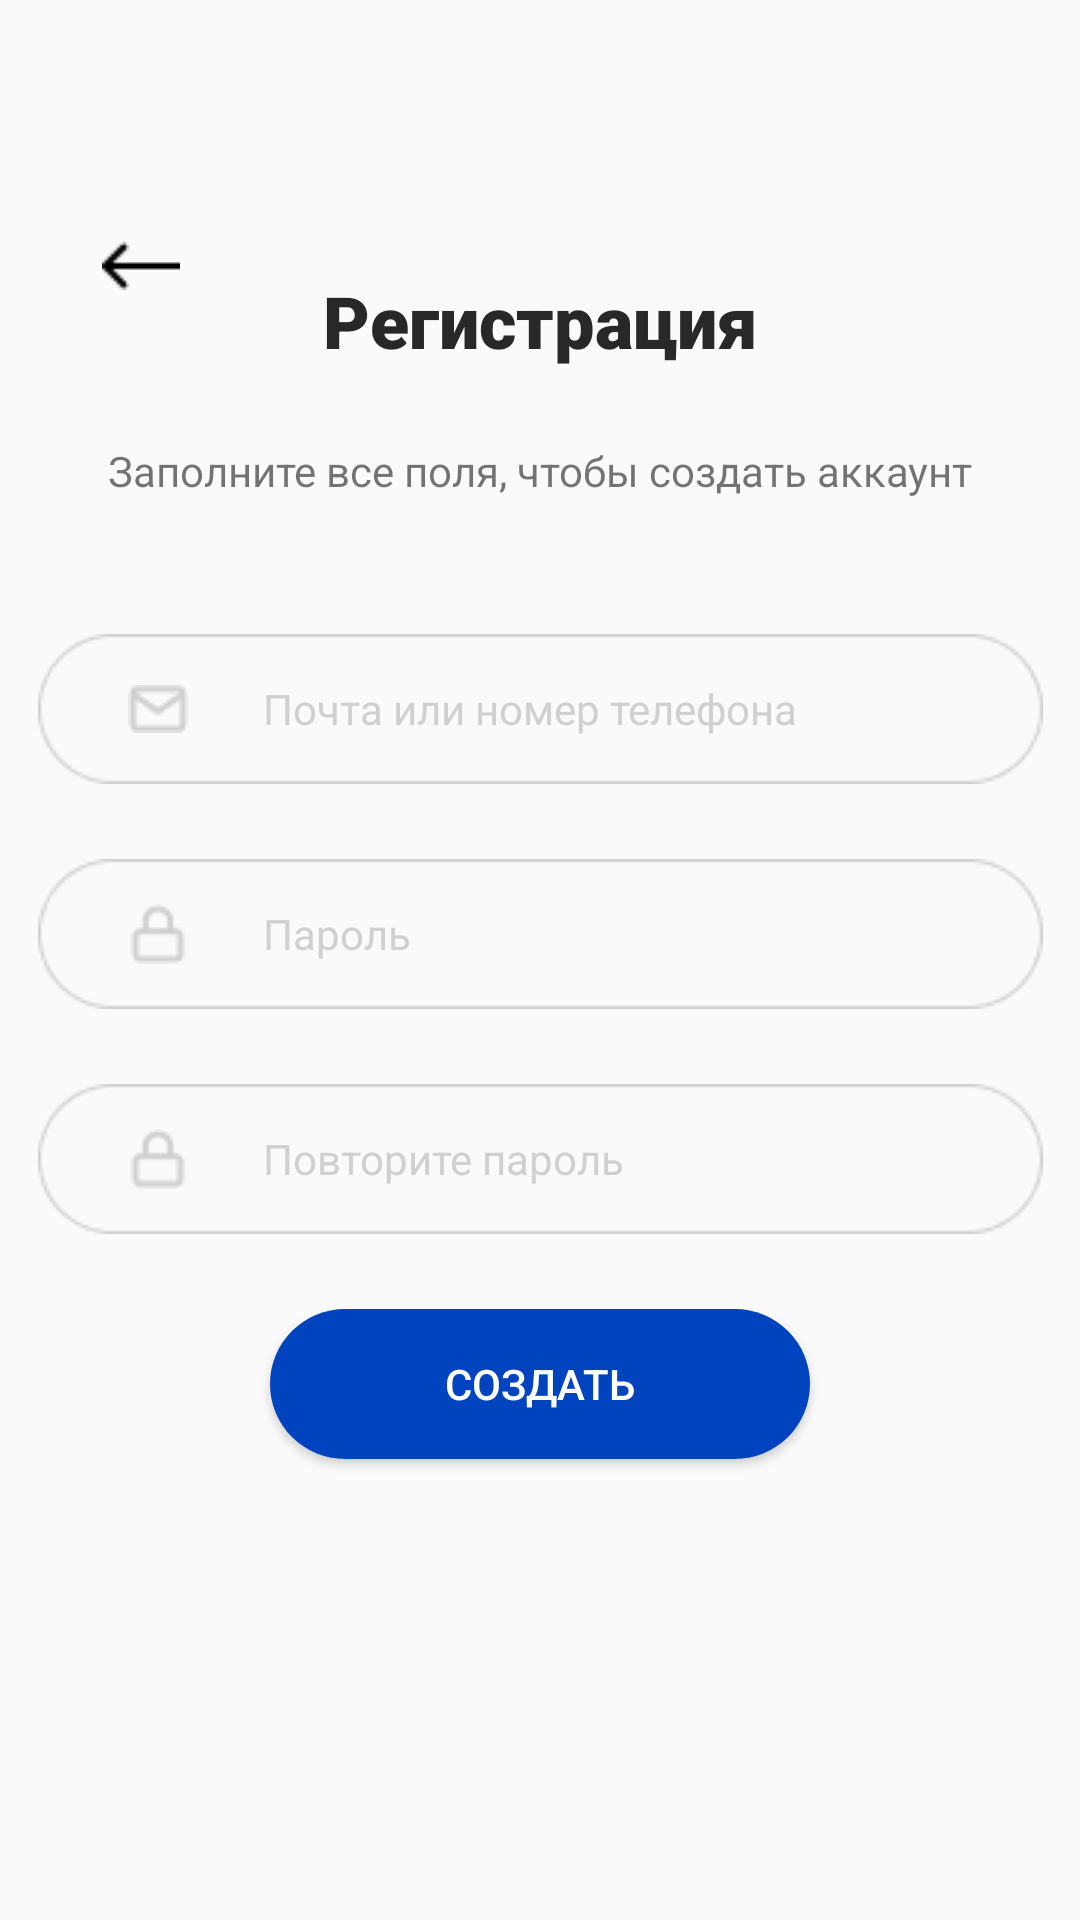

Icons on this 1080w x 1920h Android screen, each with its box as (x1, y1, x2, y2):
arrow left: (102, 242, 180, 290)
